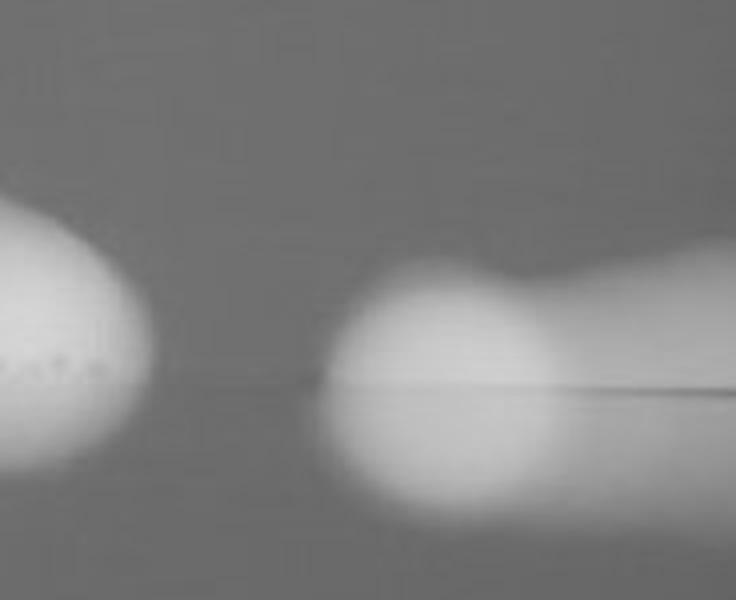defect: (49, 349, 71, 375), (84, 359, 110, 380)
